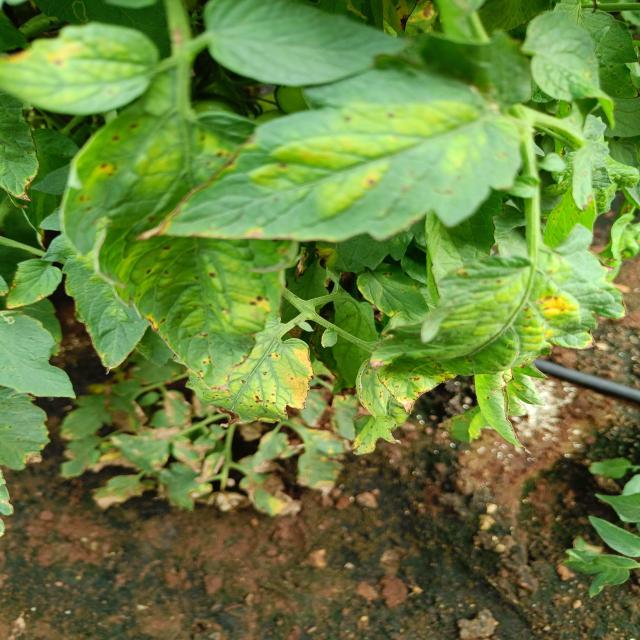Tomato mosaic virus leaf: (158, 327, 319, 437), (349, 358, 457, 461)
